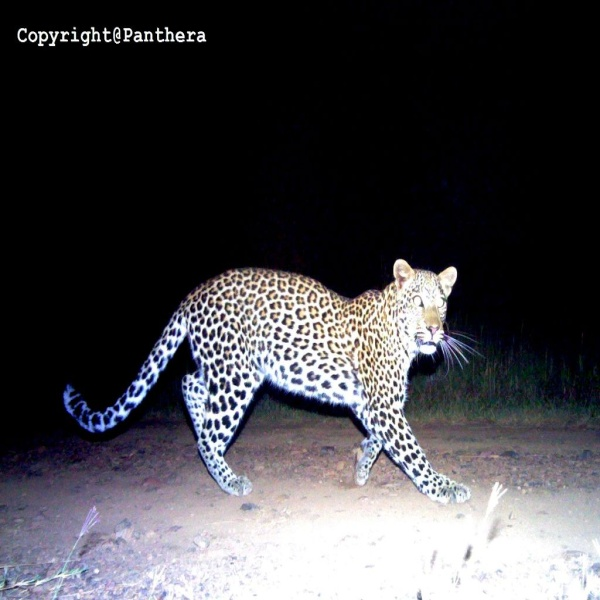Leopard: (61, 247, 480, 514)
